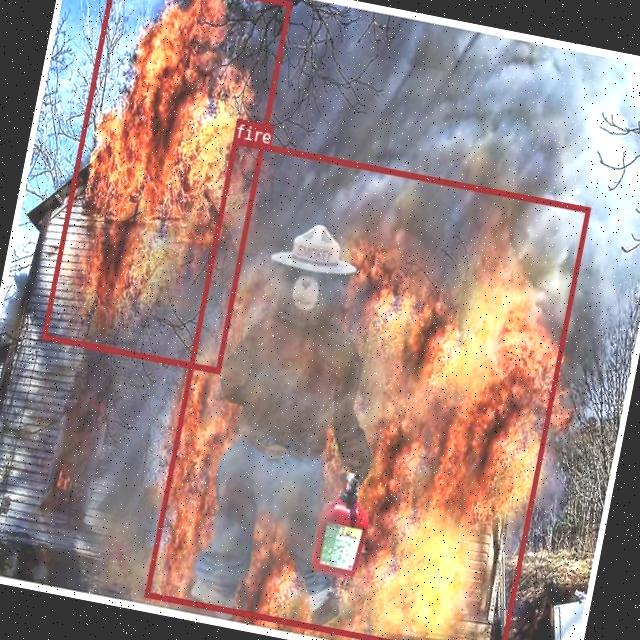fire: (144, 137, 590, 640), (41, 0, 292, 373)
